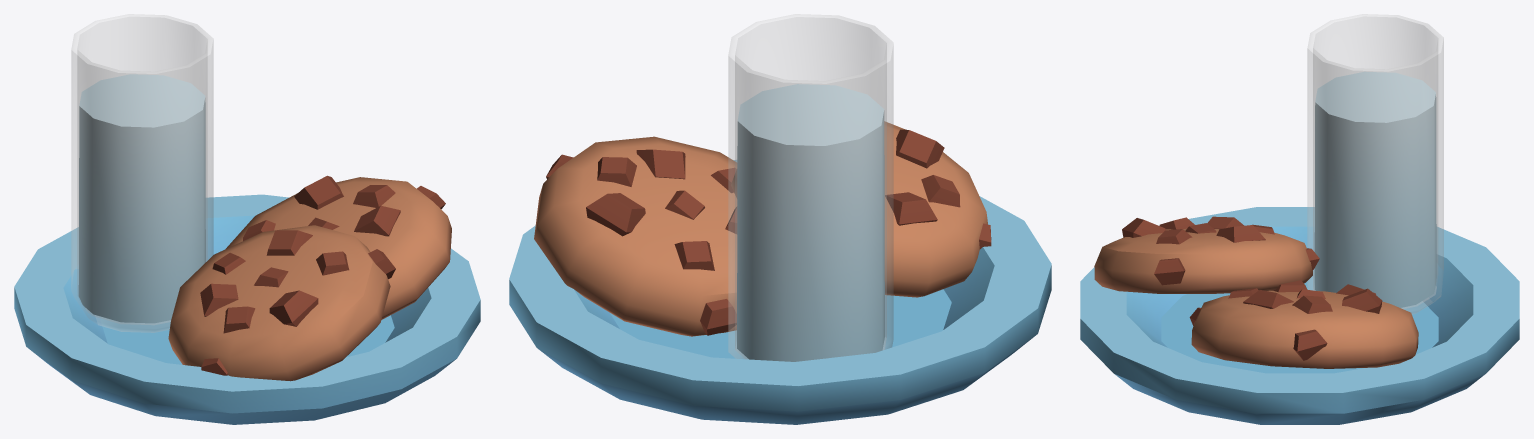
Rendered from plate_decorated_B.fbx.
3 renders of one model, left to right at view 1: azimuth 30°, elevation 25°; view 2: azimuth 150°, elevation 25°; view 3: azimuth 270°, elevation 25°, orthographic. The views are drawn at different scales.
Parts seen in each view (by area): view 1: plate_decorated_B; view 2: plate_decorated_B; view 3: plate_decorated_B.
Boxes of the visible parts, x1,y1,x2,y2 form: plate_decorated_B: (14, 14, 480, 424); plate_decorated_B: (509, 14, 1051, 424); plate_decorated_B: (1080, 14, 1519, 424).
Size of the model in its own units: 0.95 by 0.642 by 0.95.
